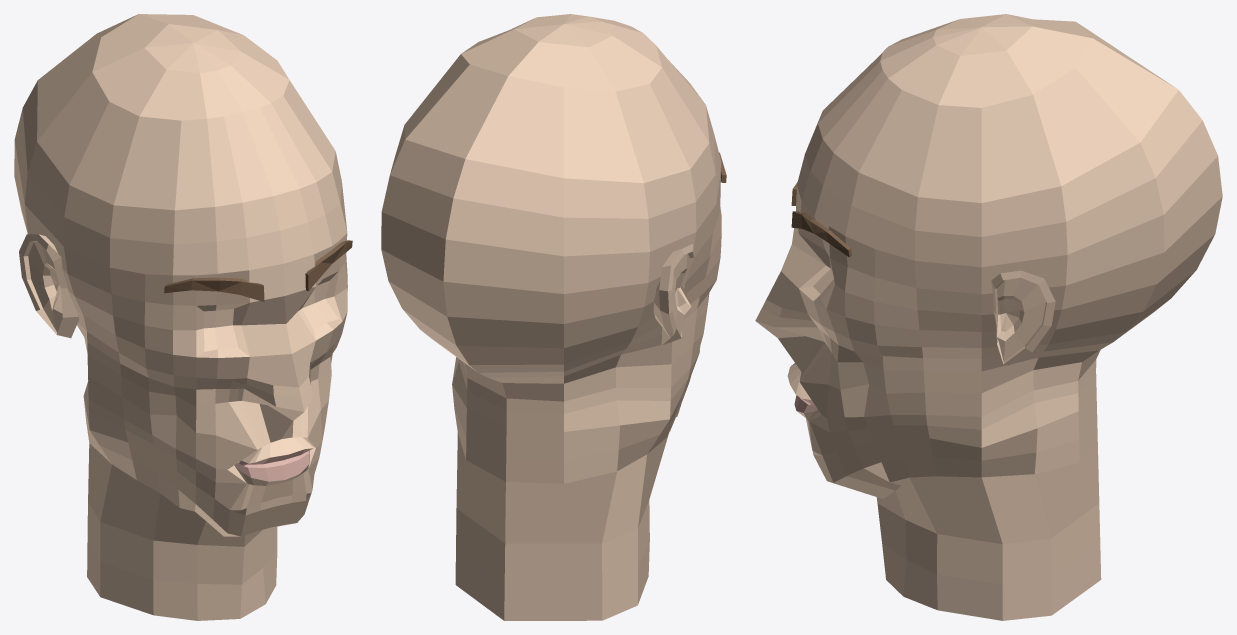
The model's file is head_tpl_v12.glb.
3 renders of one model, left to right at view 1: azimuth 30°, elevation 25°; view 2: azimuth 150°, elevation 25°; view 3: azimuth 270°, elevation 25°, orthographic. The views are drawn at different scales.
Visible parts, largest first — view 1: Head_Main, Ears, Eyebrow_R, Eyebrow_L; view 2: Head_Main, Ears; view 3: Head_Main, Ears, Eyebrow_L.
Boxes of the visible parts, x1,y1,x2,y2 form: Head_Main: (14,14,347,620); Ears: (19,234,78,338); Eyebrow_R: (164,277,264,301); Eyebrow_L: (305,240,352,291); Head_Main: (381,14,721,620); Ears: (653,244,693,345); Head_Main: (755,14,1222,620); Ears: (991,270,1055,365); Eyebrow_L: (791,211,851,257).
Size of the model in its own units: 0.1538 by 0.2886 by 0.2209.
